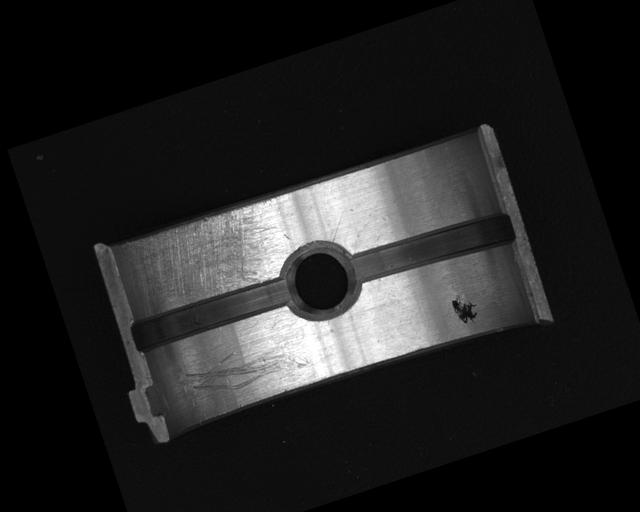blot: (449, 290, 482, 328)
gap: (343, 202, 523, 297), (127, 272, 296, 357)
hole: (273, 236, 365, 324)
nick: (180, 330, 310, 407), (321, 207, 355, 245)
scratch: (120, 194, 294, 321)
